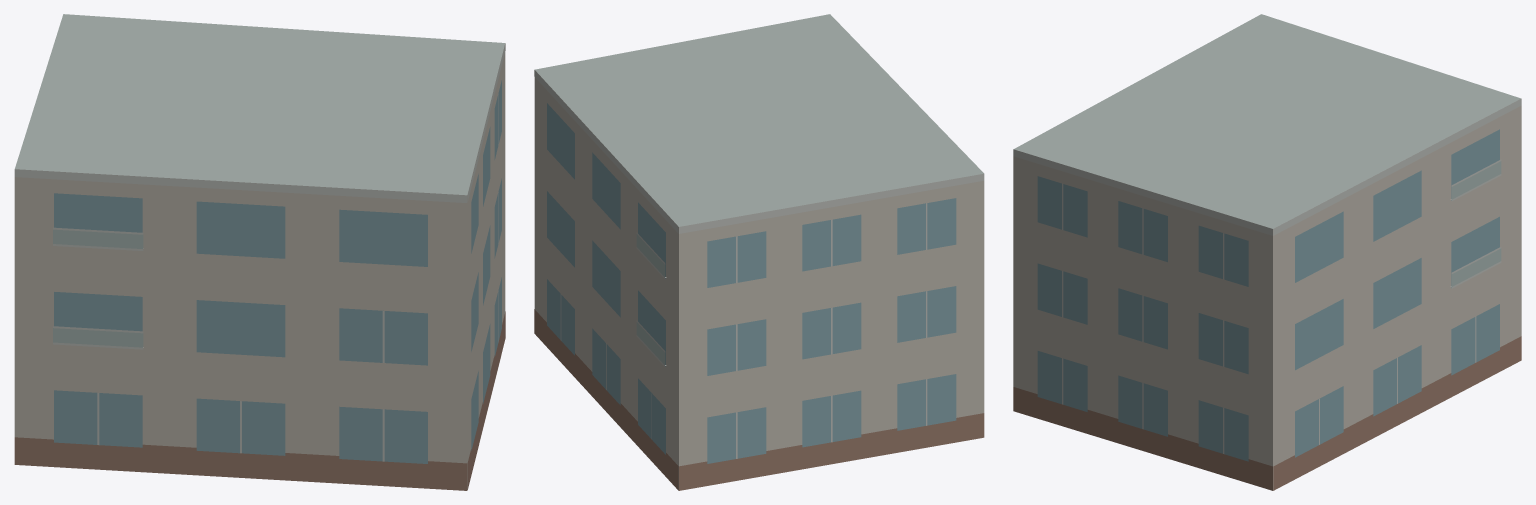
The model's file is survey-upis-32972038.glb.
3 views of the same model, side by side, from view 1: azimuth 30°, elevation 25°; view 2: azimuth 150°, elevation 25°; view 3: azimuth 270°, elevation 25° (orthographic). The views are drawn at different scales.
Visible parts, largest first — view 1: survey-upis-32972038.tmp; view 2: survey-upis-32972038.tmp; view 3: survey-upis-32972038.tmp.
Part boxes in pixels (x1,y1,x2,y2): survey-upis-32972038.tmp: (14, 14, 505, 490); survey-upis-32972038.tmp: (534, 14, 984, 490); survey-upis-32972038.tmp: (1013, 14, 1521, 490).
Bounding box in the file's own units: 16.12 × 9.15 × 16.1.
